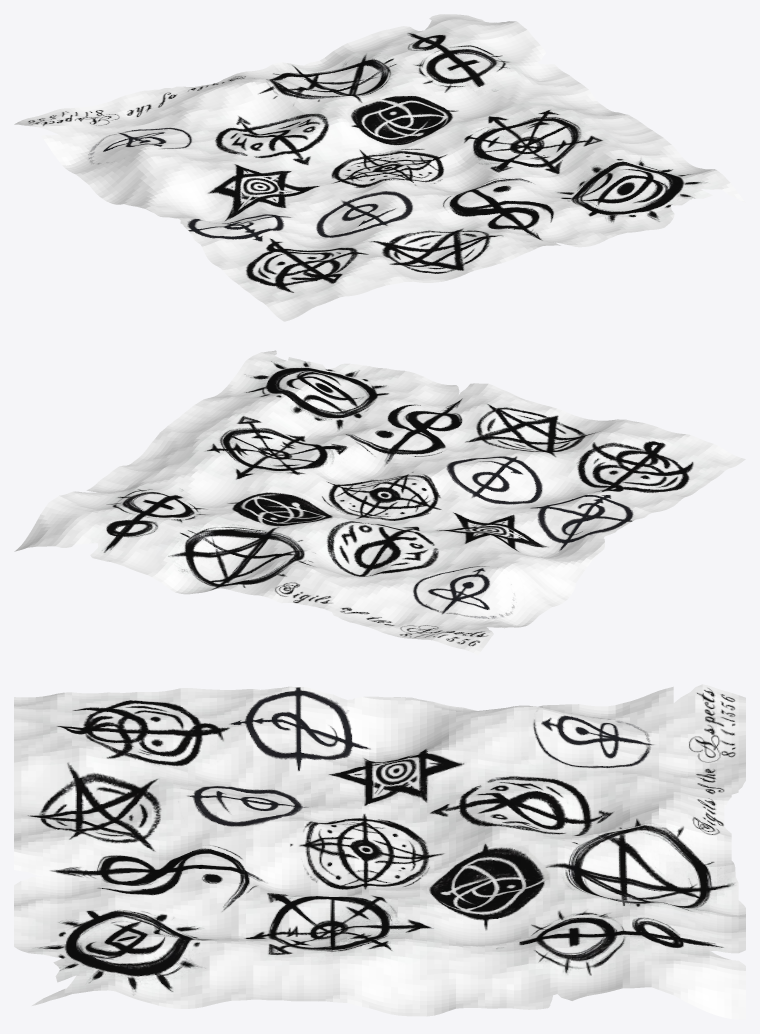
The model's file is parchment_plain_sigils.fbx.
The picture shows the model from 3 angles, top to bottom: view 1: azimuth 30°, elevation 25°; view 2: azimuth 150°, elevation 25°; view 3: azimuth 270°, elevation 25°; orthographic projection. The views are drawn at different scales.
Parts seen in each view (by area): view 1: Plane; view 2: Plane; view 3: Plane.
Part boxes in pixels (<box>): Plane: <box>14,14,745,321</box>; Plane: <box>14,350,745,655</box>; Plane: <box>14,684,745,1019</box>.
Size of the model in its own units: 1000 by 61.36 by 1000.
